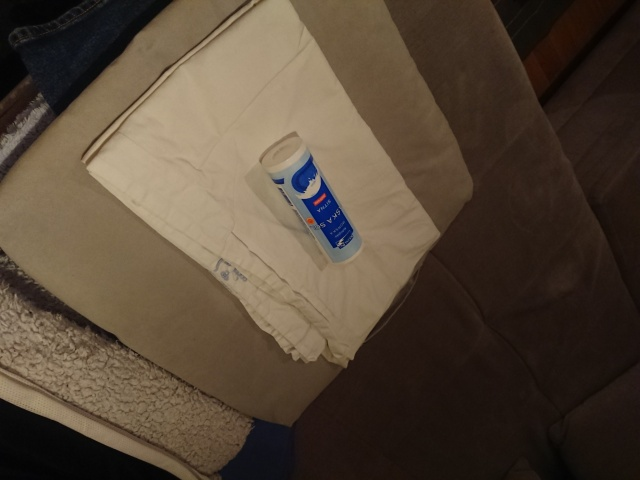Solana Pag Fine Sea Salt 250g: (257, 133, 367, 269)
